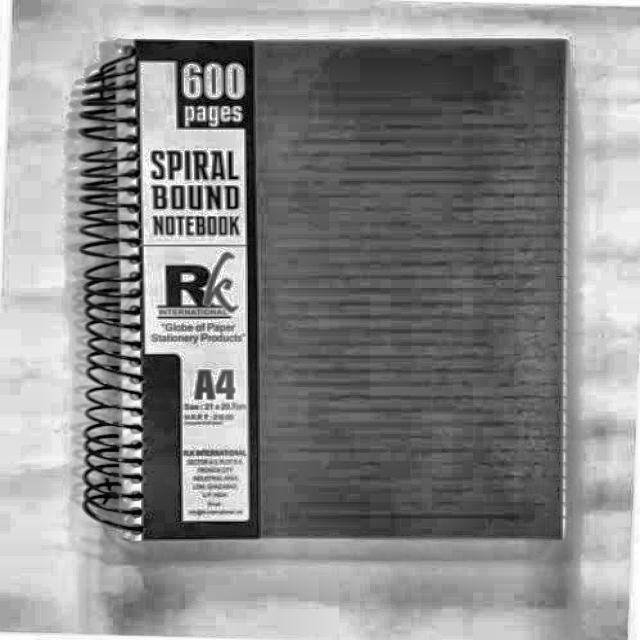Notebook: (46, 0, 591, 576)
